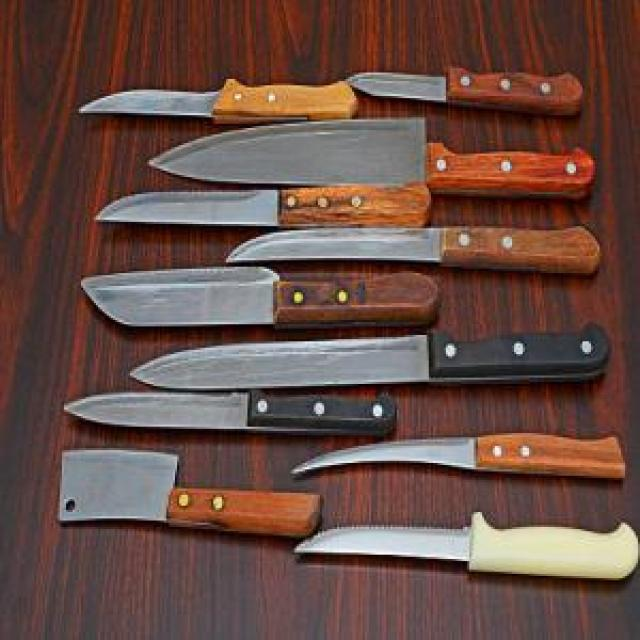knife: (130, 320, 615, 390), (130, 118, 597, 184), (296, 510, 638, 591), (58, 448, 320, 543), (77, 264, 438, 330), (96, 179, 438, 237), (294, 431, 632, 488), (228, 222, 602, 273), (60, 391, 398, 434), (76, 76, 362, 122), (346, 70, 584, 108)
